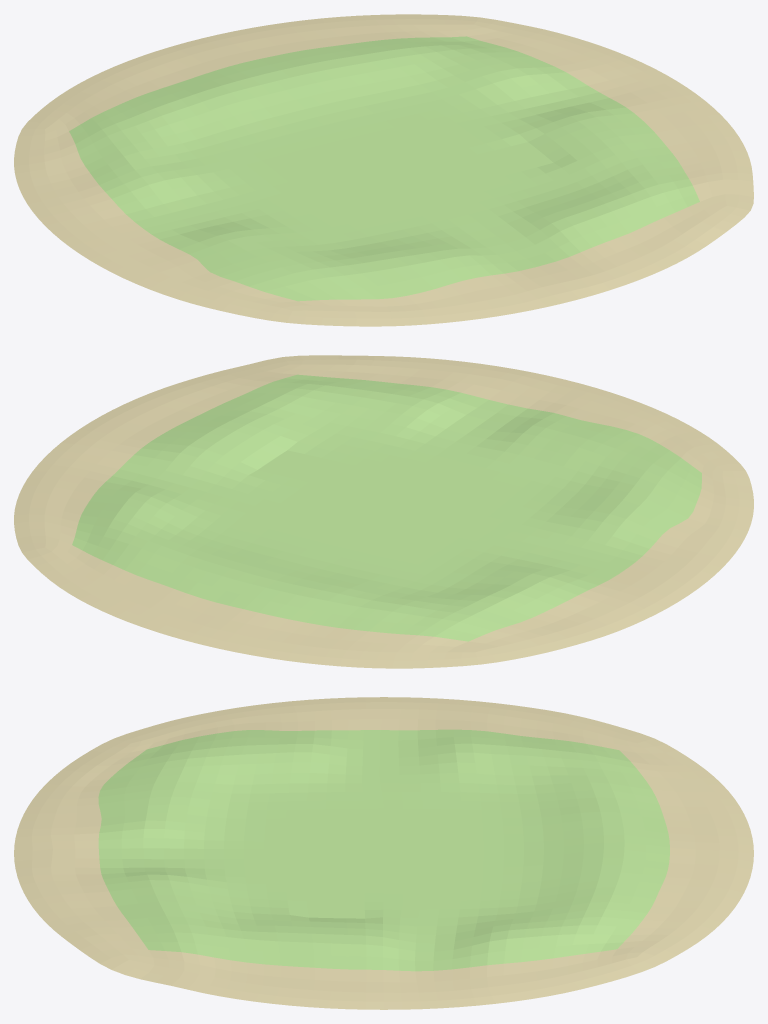
File: IslandNavMesh.glb
3 renders of one model, top to bottom at view 1: azimuth 30°, elevation 25°; view 2: azimuth 150°, elevation 25°; view 3: azimuth 270°, elevation 25°, orthographic. The views are drawn at different scales.
Parts seen in each view (by area): view 1: Island; view 2: Island; view 3: Island.
Boxes of the visible parts, <box> form: Island: <box>14,14,753,326</box>; Island: <box>14,355,753,668</box>; Island: <box>14,697,753,1009</box>.
Size of the model in its own units: 2604 by 48.06 by 2604.
